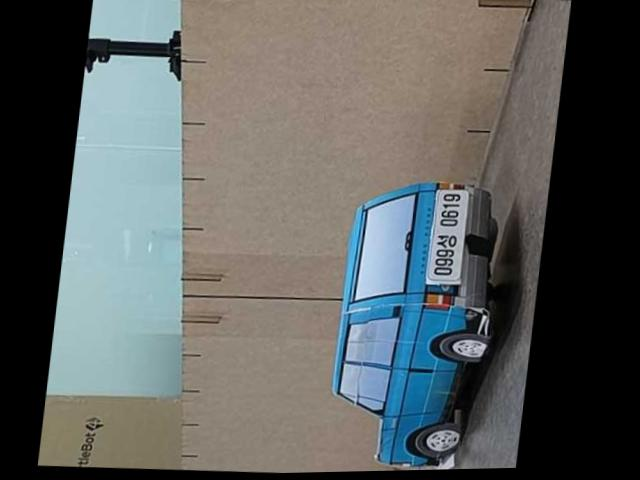car: (319, 176, 510, 472)
id: (422, 186, 468, 287)
